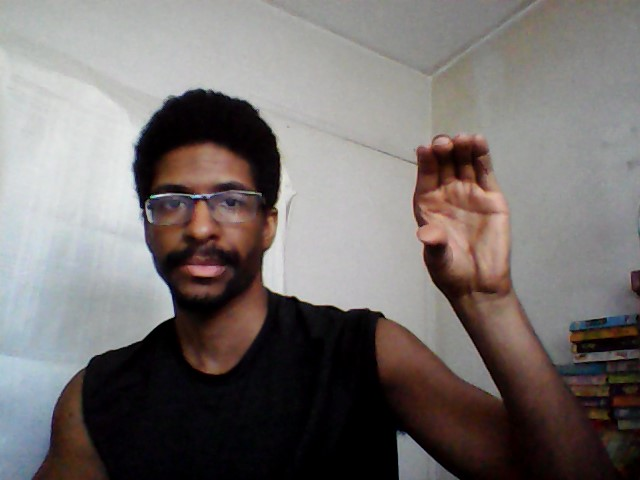c: (407, 127, 519, 297)
